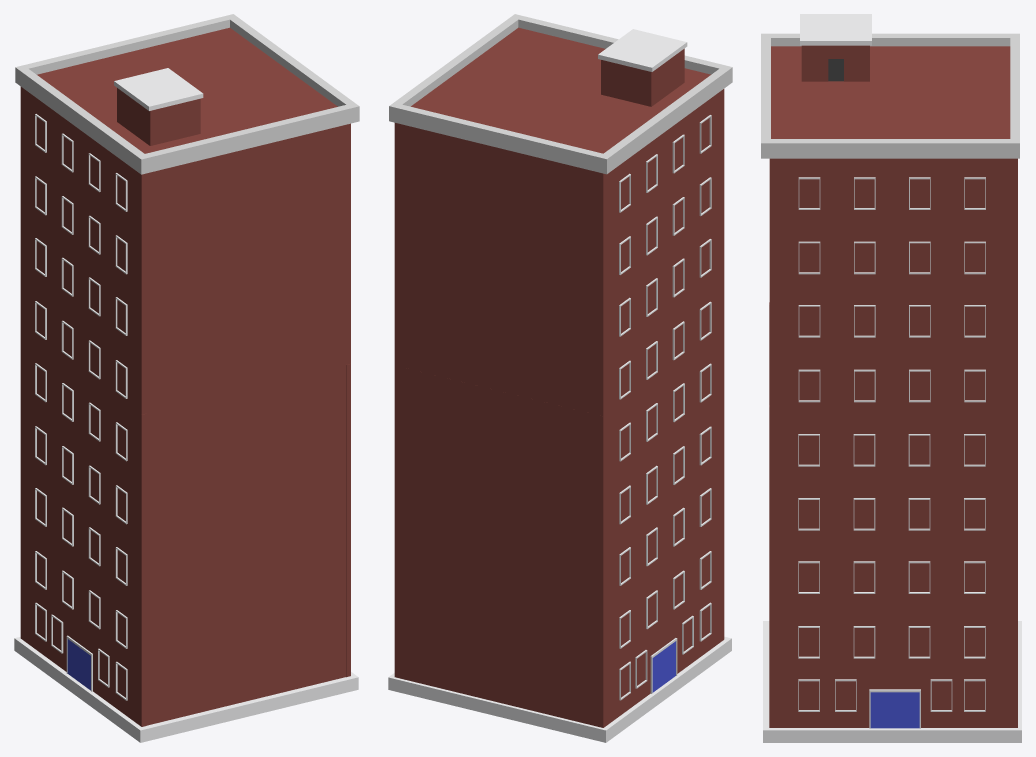
3 renders of one model, left to right at view 1: azimuth 30°, elevation 25°; view 2: azimuth 150°, elevation 25°; view 3: azimuth 270°, elevation 25°, orthographic. The views are drawn at different scales.
Parts seen in each view (by area): view 1: wall03_A, wall06_A, wall01_A, wall05_A, roof01_A, base_A, roof02_B, wall04_A, wall07_A; view 2: wall02_A, wall08_A, wall01_A, wall05_A, roof01_A, base_A, roof02_B; view 3: wall04_A, wall07_A, roof01_A, base_A, roof02_B.
Part boxes in pixels (x1,y1,x2,y2): wall03_A: (146, 368, 345, 725); wall06_A: (146, 125, 345, 415); wall01_A: (21, 330, 146, 726); wall05_A: (20, 86, 146, 417); roof01_A: (15, 14, 359, 174); base_A: (14, 637, 358, 742); roof02_B: (114, 68, 203, 145); wall04_A: (346, 364, 350, 677); wall07_A: (346, 123, 350, 364); wall02_A: (394, 365, 603, 727); wall08_A: (394, 123, 603, 416); wall01_A: (603, 331, 724, 727); wall05_A: (603, 89, 724, 418); roof01_A: (389, 14, 732, 174); base_A: (388, 636, 731, 742); roof02_B: (598, 29, 687, 106); wall04_A: (769, 405, 1017, 728); wall07_A: (769, 158, 1017, 410); roof01_A: (761, 33, 1019, 158); base_A: (763, 621, 1021, 742); roof02_B: (800, 14, 871, 81).
Bounding box in the file's own units: 890 × 2404 × 897.
